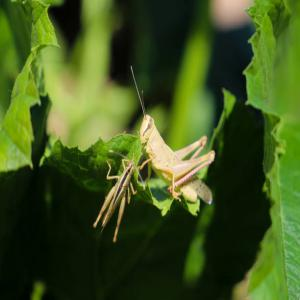locust: (124, 54, 222, 237)
